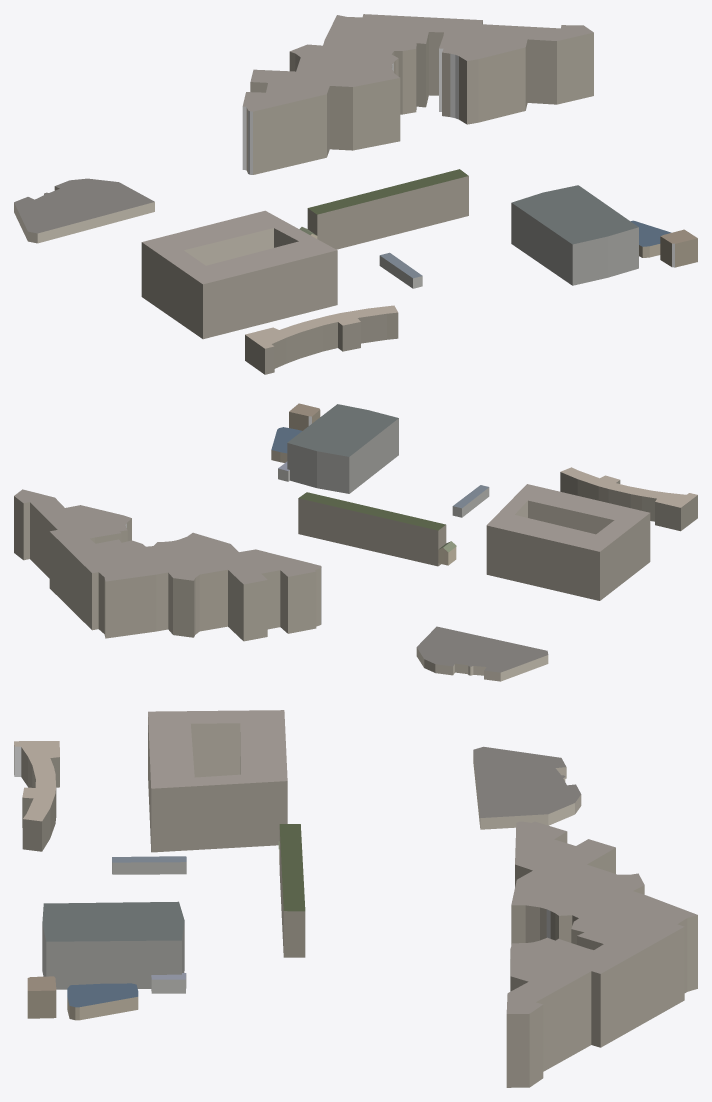
3 renders of one model, top to bottom at view 1: azimuth 30°, elevation 25°; view 2: azimuth 150°, elevation 25°; view 3: azimuth 270°, elevation 25°, orthographic. The views are drawn at different scales.
Visible parts, largest first — view 1: tuile; view 2: tuile; view 3: tuile.
Part boxes in pixels (x1=…): tuile: x1=14, y1=14, x2=697, y2=374; tuile: x1=14, y1=403, x2=697, y2=681; tuile: x1=14, y1=710, x2=697, y2=1087.
Bounding box in the file's own units: 336 × 35.34 × 297.
